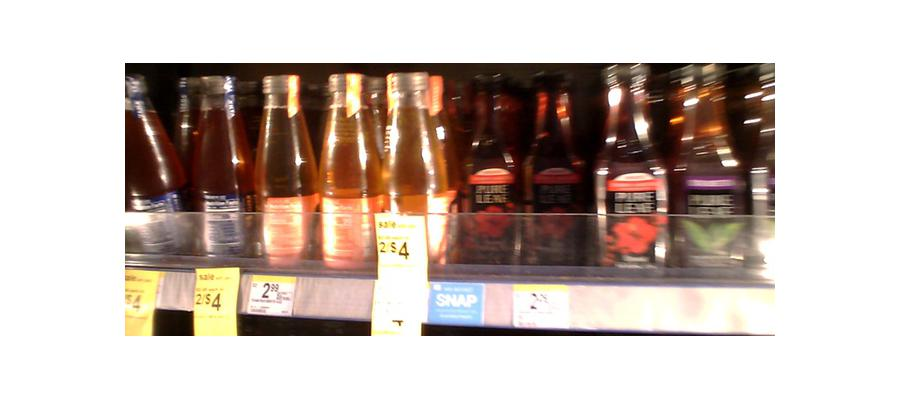bottle: (378, 68, 446, 318), (594, 63, 666, 269), (674, 80, 750, 268), (182, 70, 251, 259), (314, 70, 377, 273), (250, 71, 313, 269), (457, 74, 522, 262), (123, 74, 182, 261), (528, 75, 586, 265)
